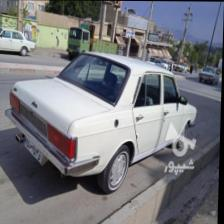plate: (24, 135, 45, 165)
